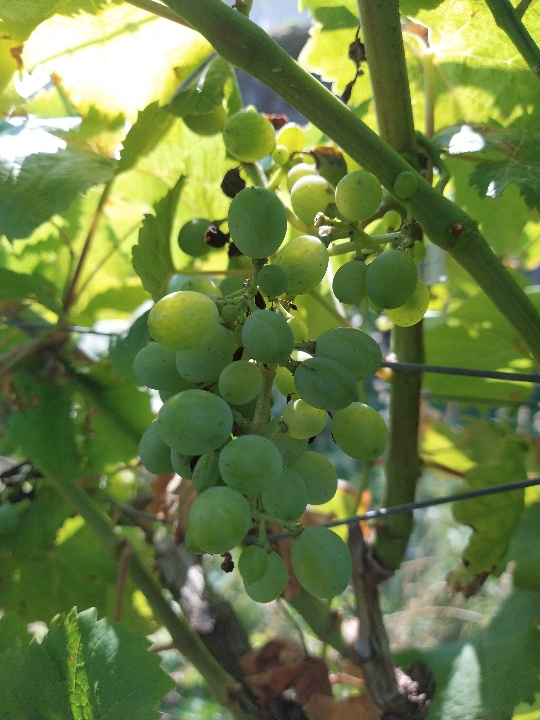grape: (132, 99, 430, 604)
